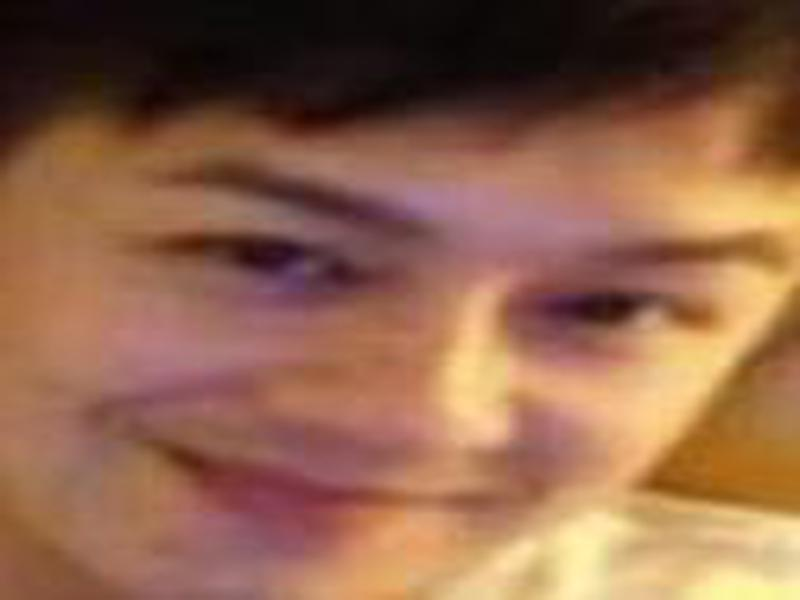without_mask: (4, 101, 795, 600)
